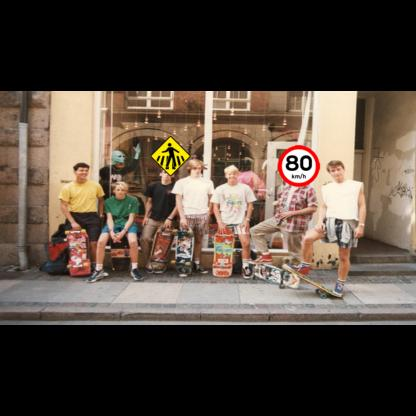A-32b: (150, 135, 191, 177)
R-19: (278, 145, 320, 187)
